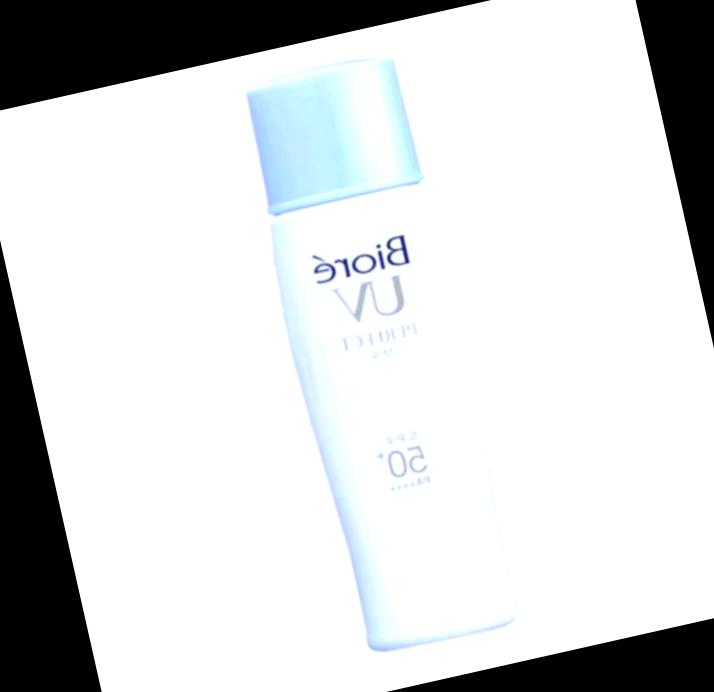cosmetic: (221, 48, 536, 659)
